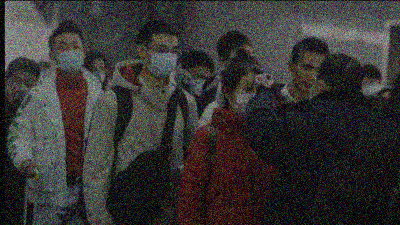with_mask: (145, 43, 179, 80), (231, 78, 260, 119), (52, 40, 84, 74), (9, 75, 36, 104), (187, 71, 211, 97), (88, 62, 107, 86), (361, 78, 382, 98)
without_mask: (293, 61, 320, 95)
